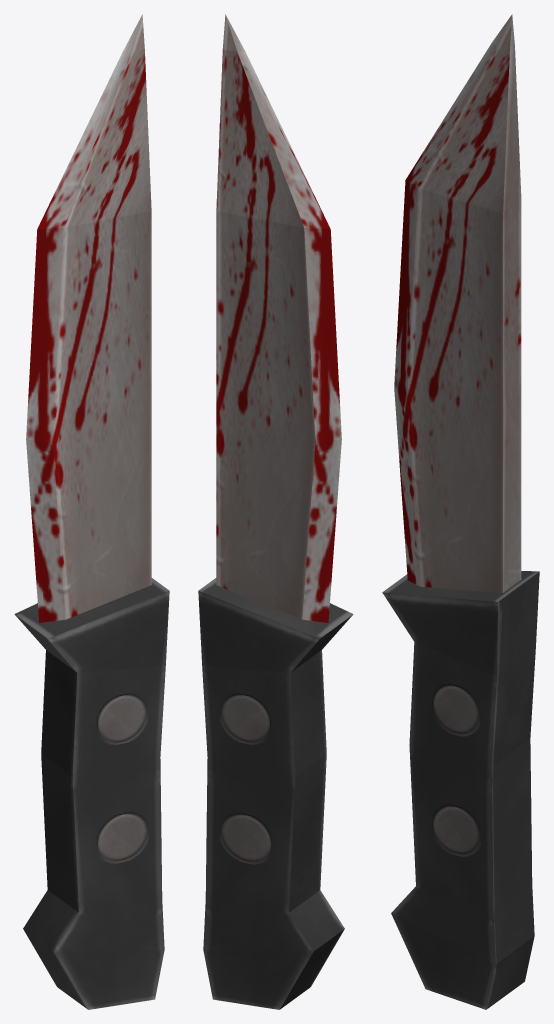
The model's file is bloody_knife.fbx.
3 renders of one model, left to right at view 1: azimuth 30°, elevation 25°; view 2: azimuth 150°, elevation 25°; view 3: azimuth 330°, elevation 25°, orthographic.
Visible parts, largest first — view 1: bloody_knife; view 2: bloody_knife; view 3: bloody_knife.
Boxes of the visible parts, x1=… form: bloody_knife: x1=14, y1=14, x2=169, y2=1009; bloody_knife: x1=198, y1=14, x2=353, y2=1009; bloody_knife: x1=382, y1=14, x2=539, y2=1009.
Bounding box in the file's own units: 0.5488 × 4.14 × 0.3182.
